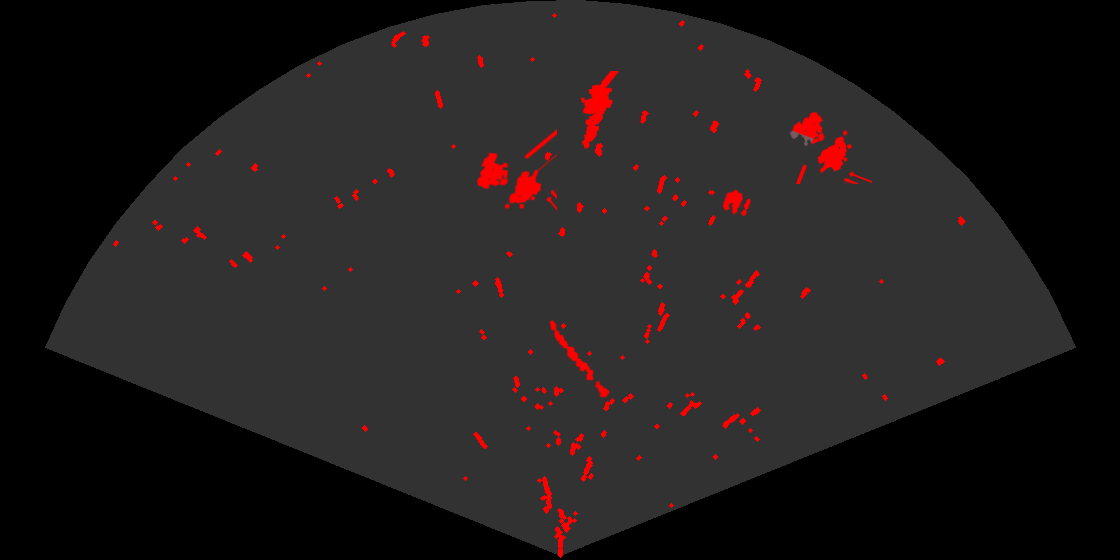ball: (721, 188, 753, 218)
cage: (475, 129, 557, 213), (789, 110, 872, 184)
chain: (548, 319, 611, 399)
frogman: (579, 71, 621, 150)
